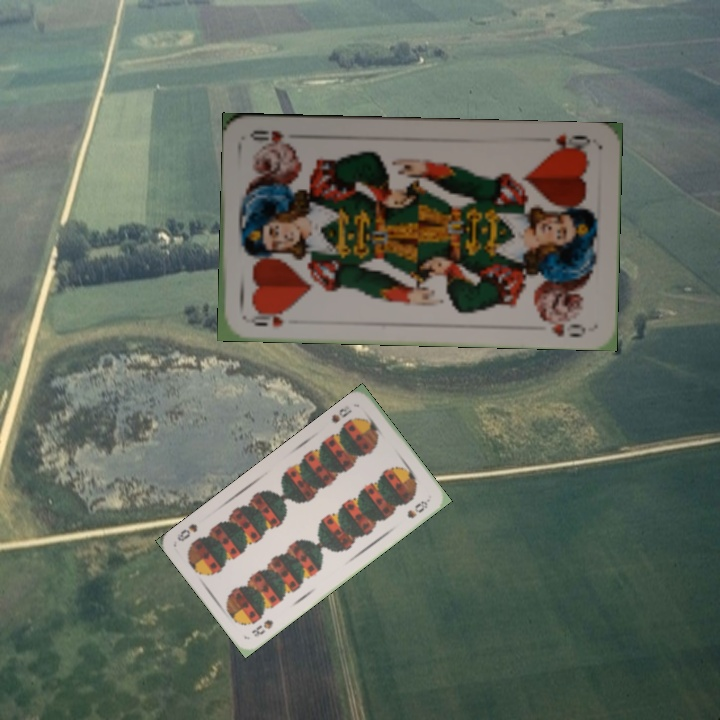HO: (545, 129, 593, 156), (242, 306, 291, 329)
S8: (247, 615, 276, 640), (327, 404, 355, 426)
